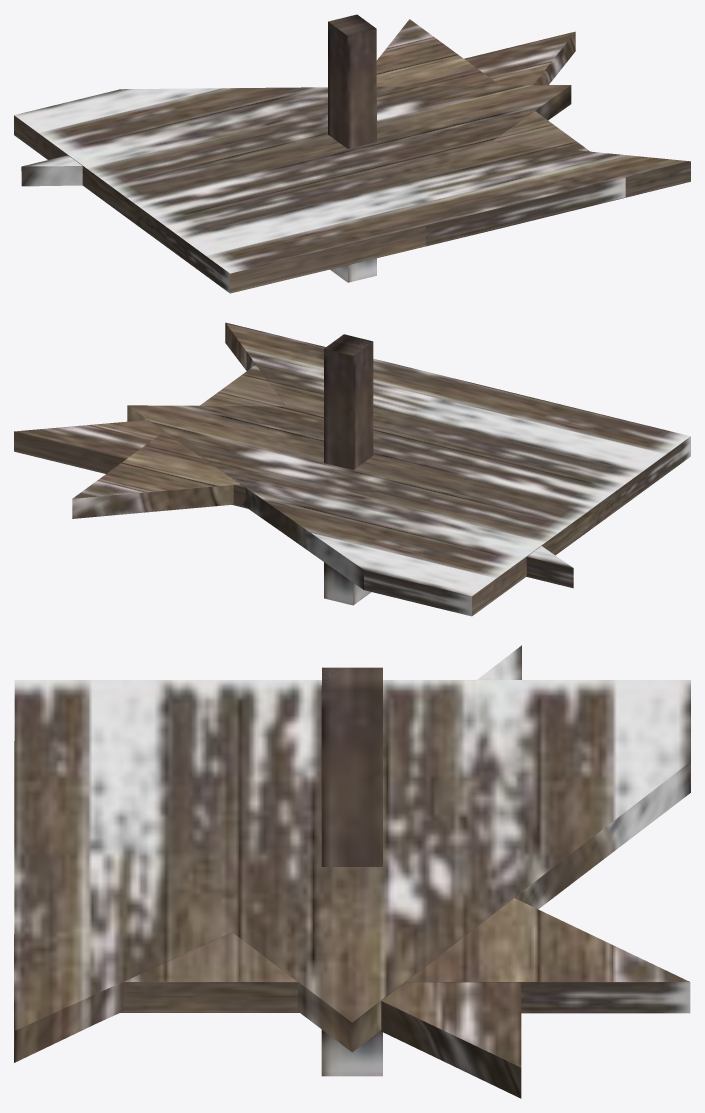
The model's file is desk01.obj.
3 views of the same model, one above another, from view 1: azimuth 30°, elevation 25°; view 2: azimuth 150°, elevation 25°; view 3: azimuth 270°, elevation 25° (orthographic). The views are drawn at different scales.
Parts seen in each view (by area): view 1: 2, 1, 0, 3, 5, 6; view 2: 2, 1, 5, 0, 6; view 3: 2, 1, 3, 0, 6.
Part boxes in pixels (x1,y1,x2,y2): 2: (14, 85, 690, 293); 1: (376, 19, 625, 246); 0: (21, 31, 575, 186); 3: (335, 18, 376, 282); 5: (328, 20, 375, 282); 6: (328, 14, 376, 35); 2: (127, 322, 690, 616); 1: (72, 365, 285, 518); 5: (324, 334, 373, 605); 0: (14, 420, 573, 588); 6: (325, 334, 372, 355); 2: (14, 680, 690, 1062); 1: (14, 898, 690, 1013); 3: (321, 670, 382, 1076); 0: (380, 645, 521, 1098); 6: (321, 667, 382, 689).
Bounding box in the file's own units: 45.52 × 19.4 × 30.83.
